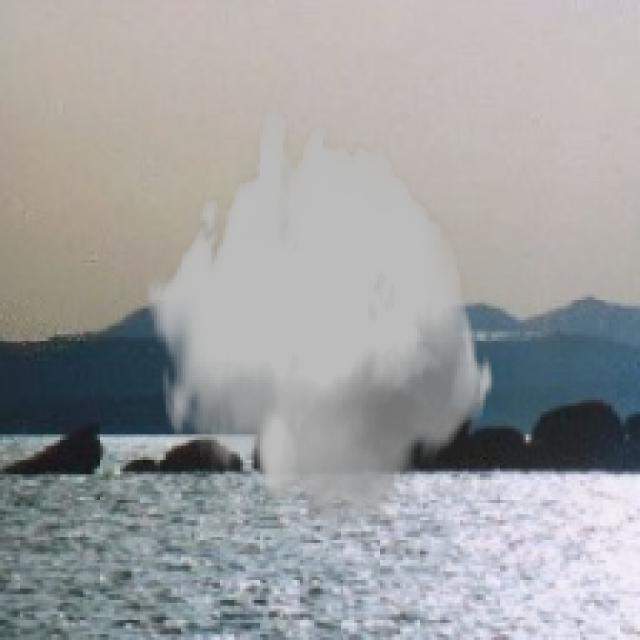smoke: (146, 111, 494, 528)
